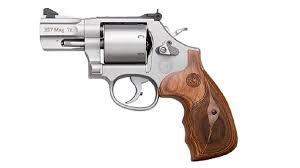Arma Real: (38, 7, 238, 161)
